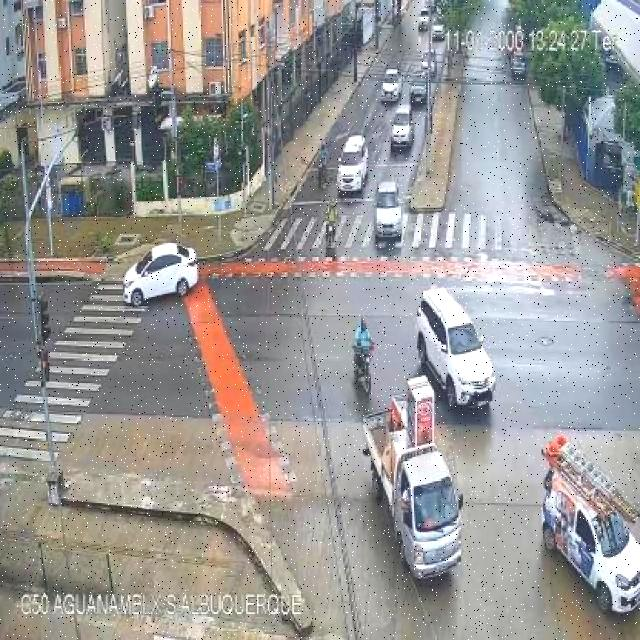Car: (416, 280, 504, 412), (120, 232, 202, 312), (335, 132, 371, 200), (376, 179, 404, 243), (390, 104, 415, 154), (380, 66, 403, 108), (408, 74, 428, 112), (416, 6, 434, 33)
Cycle: (352, 316, 383, 404), (322, 200, 342, 262)
Truck: (362, 372, 467, 580), (540, 430, 640, 613)
